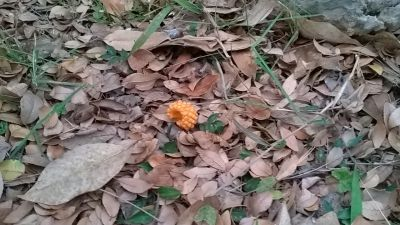eggs: (167, 99, 198, 128)
